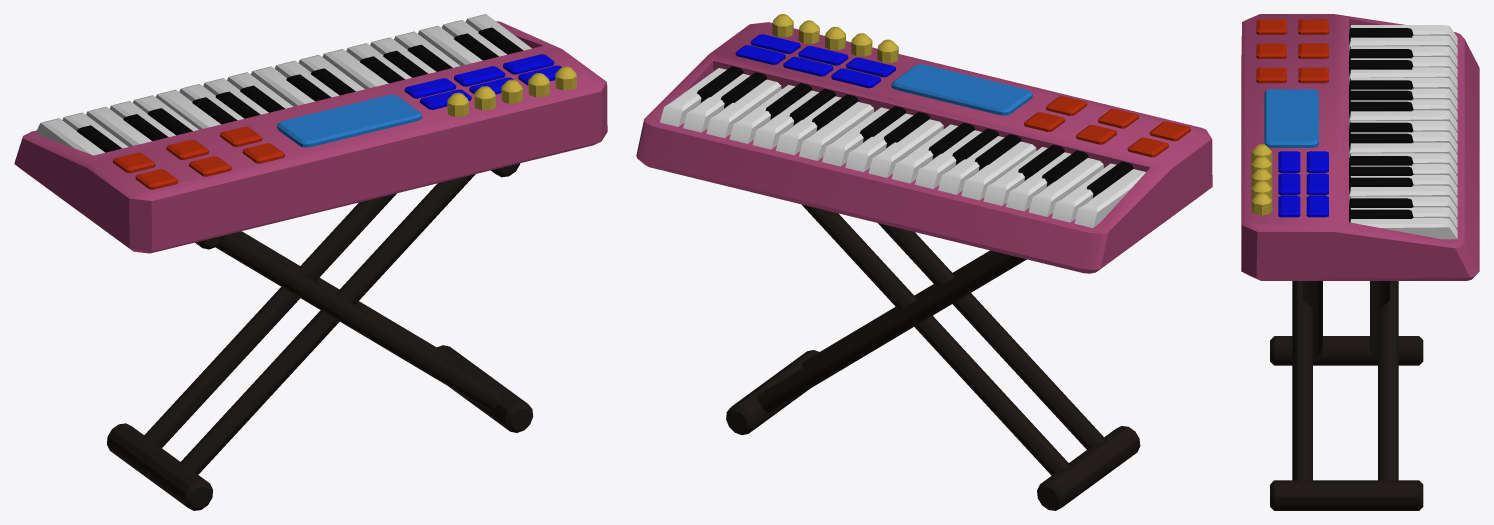
Rendered from Piano.FBX.
3 views of the same model, side by side, from view 1: azimuth 30°, elevation 25°; view 2: azimuth 150°, elevation 25°; view 3: azimuth 270°, elevation 25° (orthographic). The views are drawn at different scales.
Parts seen in each view (by area): view 1: Piano; view 2: Piano; view 3: Piano.
Boxes of the visible parts, left/top/right/bottom form: Piano: left=14, top=14, right=607, bottom=510; Piano: left=636, top=14, right=1212, bottom=510; Piano: left=1241, top=14, right=1479, bottom=510.
Size of the model in its own units: 1000 by 466 by 718.
